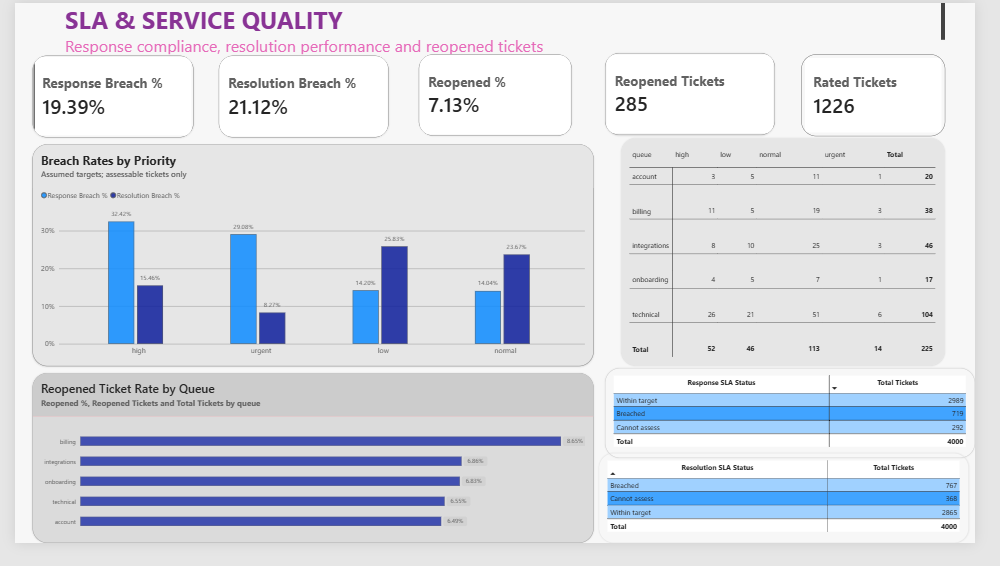

The page's visual inventory and layout, read from the dashboard file:
{"tool":"powerbi","page":{"name":"SLA & Quality","canvas":[1920,1080],"ordinal":1},"visuals":[{"type":"cardVisual","fields":{"Data":["support_tickets.Response Breach %"]},"box":[34,104,322,164],"z":0},{"type":"cardVisual","fields":{"Data":["support_tickets.Resolution Breach %"]},"box":[408,104,340,164],"z":1000},{"type":"cardVisual","fields":{"Data":["support_tickets.Reopened Tickets"]},"box":[1155.7,101.4,340,164],"z":2000},{"type":"cardVisual","fields":{"Data":["support_tickets.Reopened %"]},"box":[806.7,103.3,306.7,163.3],"z":3000},{"type":"cardVisual","fields":{"Data":["support_tickets.Rated Tickets"]},"box":[1550,104.3,288,164],"z":4000},{"type":"clusteredColumnChart","title":"Breach Rates by Priority","fields":{"Category":["support_tickets.priority"],"Y":["support_tickets.Response Breach %","support_tickets.Resolution Breach %"]},"box":[34,282,1122,444],"z":5000},{"type":"clusteredBarChart","title":"Reopened Ticket Rate by Queue","fields":{"Category":["support_tickets.queue"],"Y":["support_tickets.Reopened %"]},"box":[34,740,1122,340],"z":6000},{"type":"pivotTable","title":"Unresolved Tickets by Queue and Priority","fields":{"Columns":["support_tickets.priority"],"Rows":["support_tickets.queue"],"Values":["support_tickets.Unresolved Tickets"]},"box":[1180,270,707.5,455],"z":7000},{"type":"tableEx","fields":{"Values":["support_tickets.Response SLA Status","support_tickets.Total Tickets"]},"box":[1180,730,740,180],"z":8000},{"type":"tableEx","fields":{"Values":["support_tickets.Resolution SLA Status","support_tickets.Total Tickets"]},"box":[1167.5,900,740,180],"z":9000},{"type":"textbox","box":[33.3,0,1826.7,103.3],"z":10000}]}

Visuals, with their boxes in screenshot pixels (x1, y1, x2, y2), scaled from the page's 1920x1080 canvas onto the 1000x566 screenshot:
cardVisual - support_tickets.Response Breach %: (18, 55, 185, 140)
cardVisual - support_tickets.Resolution Breach %: (213, 55, 390, 140)
cardVisual - support_tickets.Reopened Tickets: (602, 53, 779, 139)
cardVisual - support_tickets.Reopened %: (420, 54, 580, 140)
cardVisual - support_tickets.Rated Tickets: (807, 55, 957, 141)
"Breach Rates by Priority" clusteredColumnChart: (18, 148, 602, 380)
"Reopened Ticket Rate by Queue" clusteredBarChart: (18, 388, 602, 565)
"Unresolved Tickets by Queue and Priority" pivotTable: (615, 142, 983, 380)
tableEx - support_tickets.Response SLA Status x support_tickets.Total Tickets: (615, 383, 999, 477)
tableEx - support_tickets.Resolution SLA Status x support_tickets.Total Tickets: (608, 472, 993, 565)
textbox: (17, 0, 969, 54)
